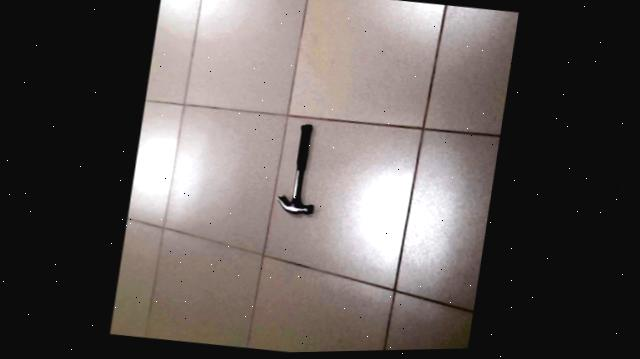hammer: (278, 115, 334, 224)
